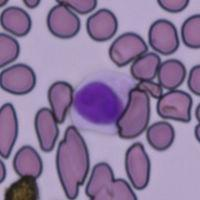L: (69, 70, 147, 134)
